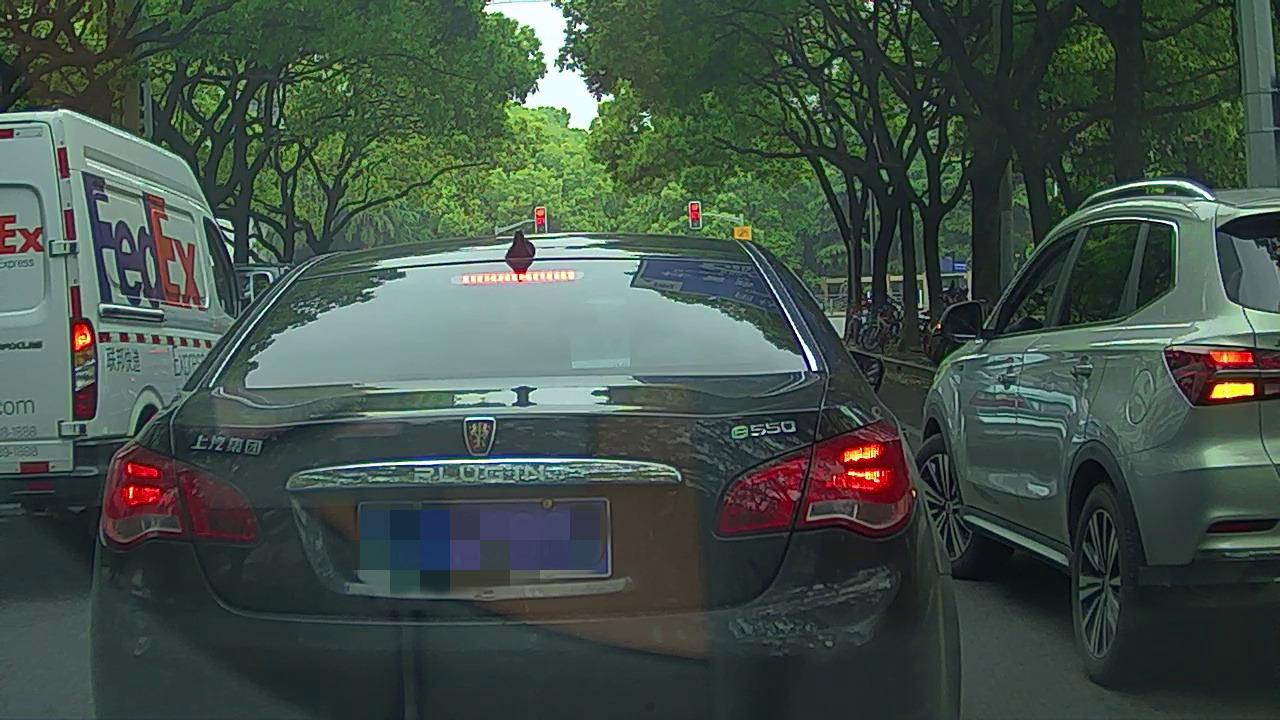traffic_light: (535, 208, 545, 234), (690, 204, 700, 228)
